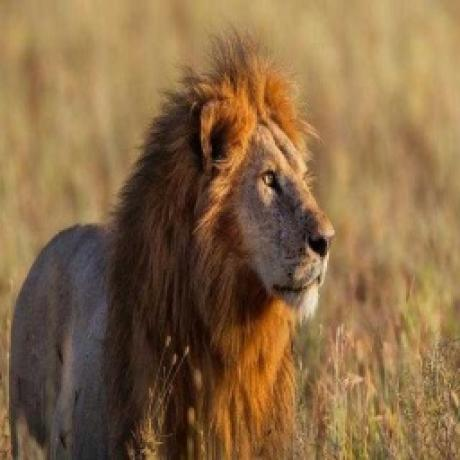Lion: (0, 27, 345, 460)
